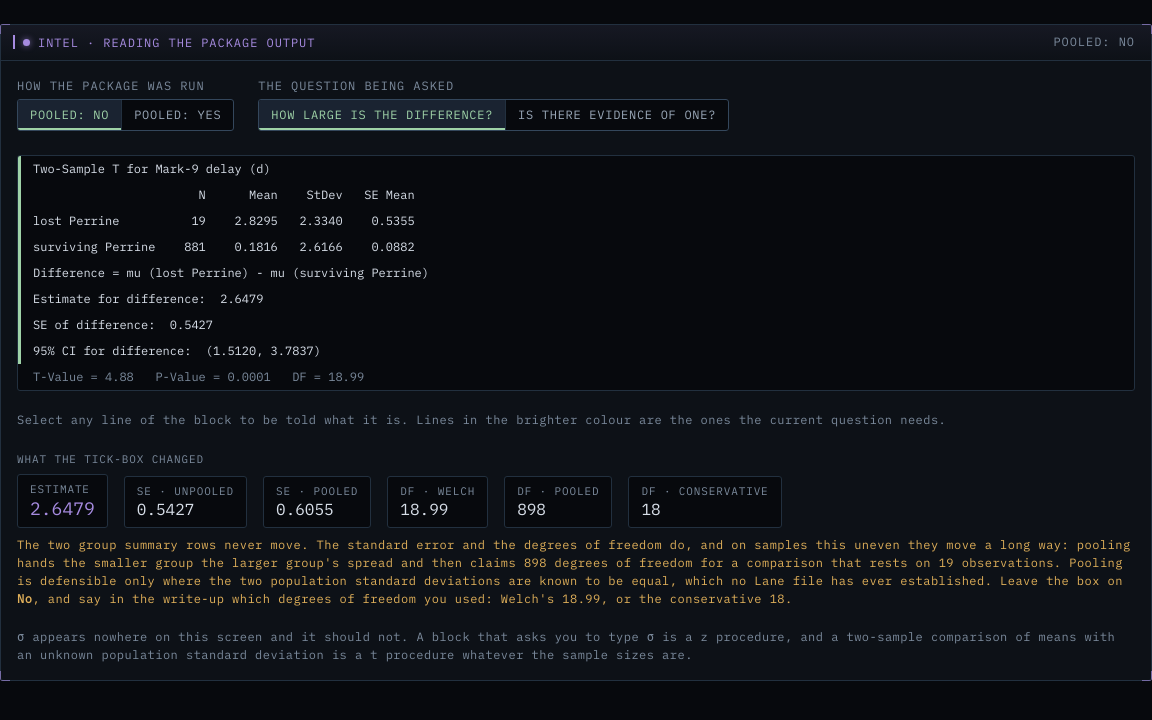
Test: <OutputReader> (act-7-05) › the pooled block changes the standard error and the degrees of freedom, never the estimate
The width and height of the screenshot is (1152, 720).
Click the radio button labelled "Pooled: Yes" at (178,114), box left=122, top=100, right=233, bottom=130
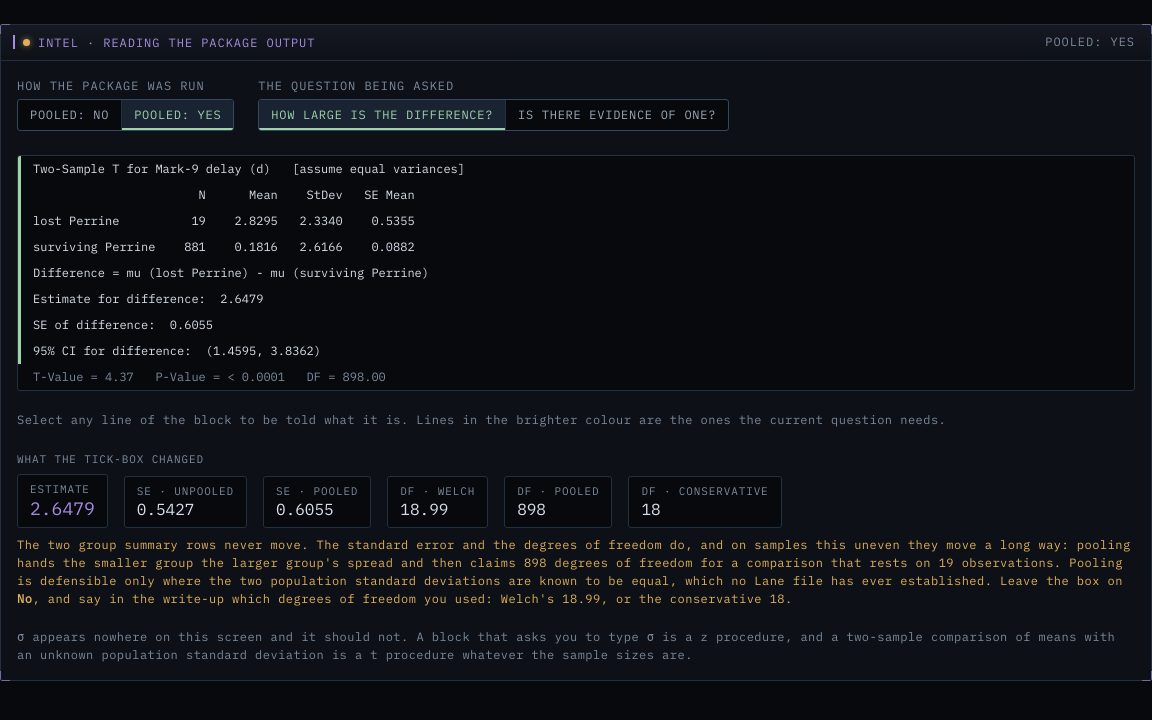
Check: the button "Two-Sample T for Mark-9 delay (d) [assume equal variances]" is shown, box left=18, top=156, right=1134, bottom=182
